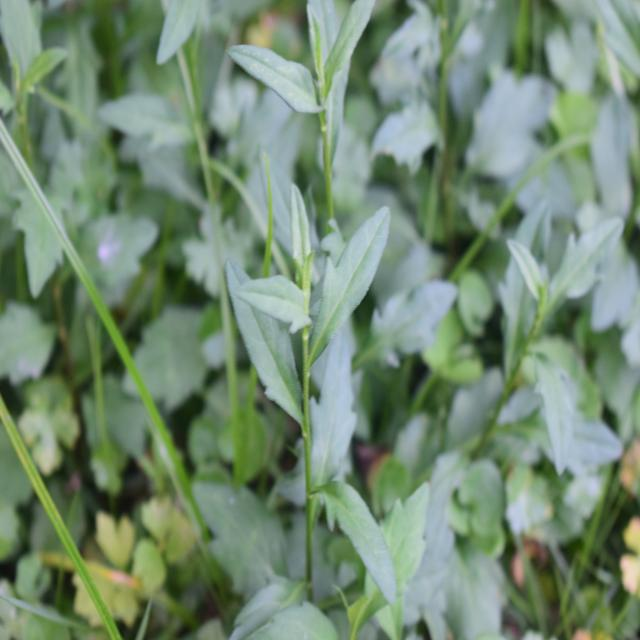Indian aster: (220, 172, 395, 566), (243, 0, 406, 207)
